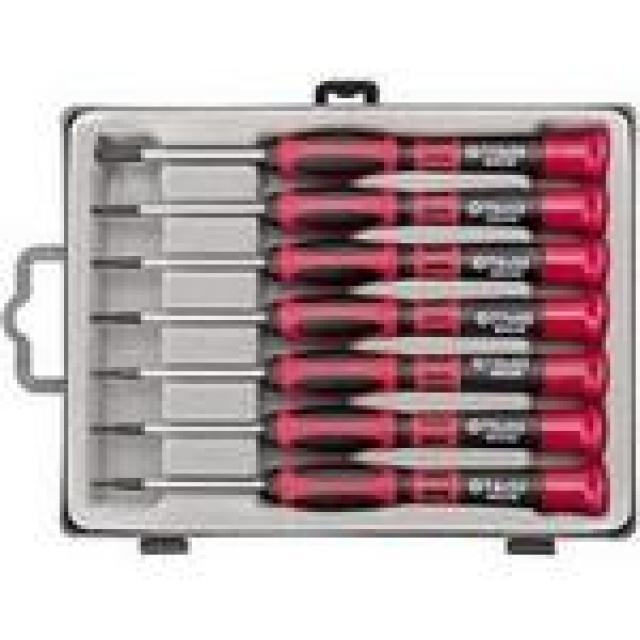screwdriver: (69, 112, 614, 185), (72, 450, 620, 520), (85, 336, 622, 405), (76, 280, 618, 348), (90, 397, 616, 458), (72, 180, 620, 237), (78, 234, 620, 288)
